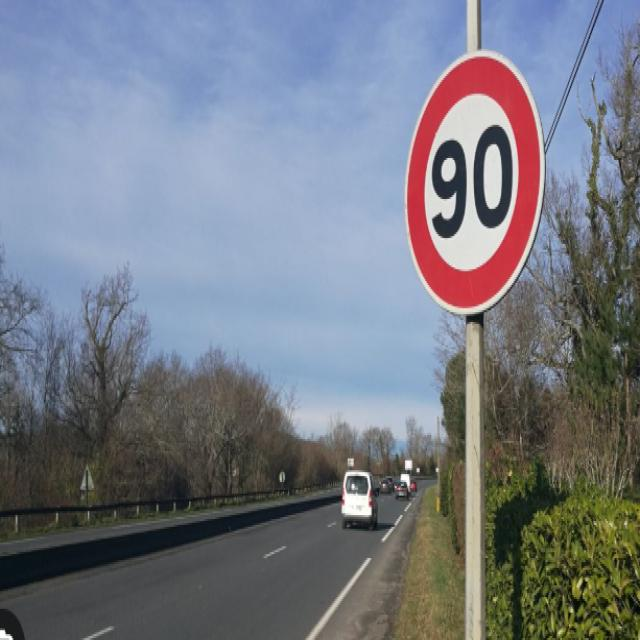speed_90: (403, 49, 548, 316)
